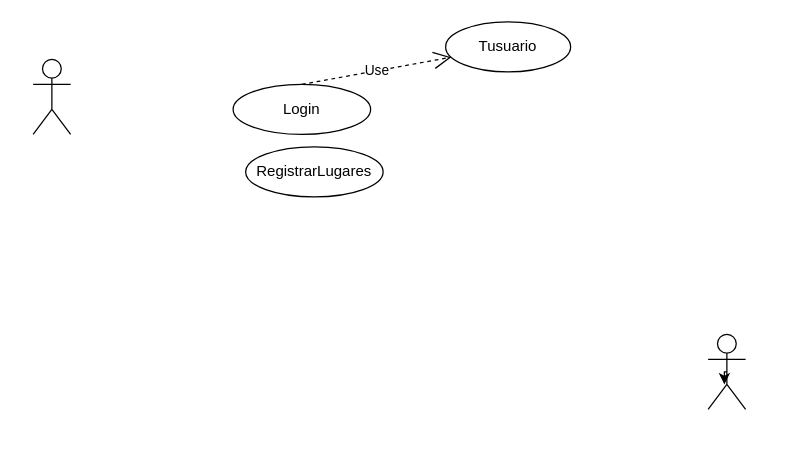
Some shapes in this 790 by 458 pixel diagram are drawn without their labels. The centre of each missing label's shape, as x and y in pixels:
Sistemas: the point at 51,96
UsuarioFinal: the point at 726,371
